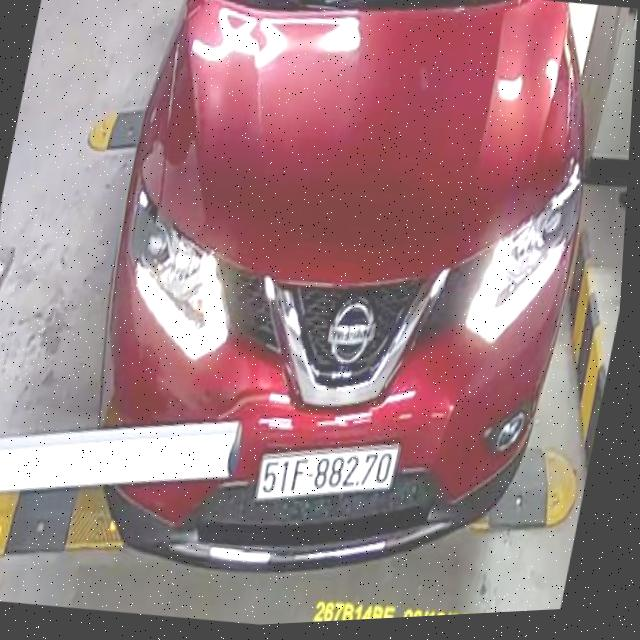car: (52, 0, 629, 624)
plate: (254, 433, 403, 518)
